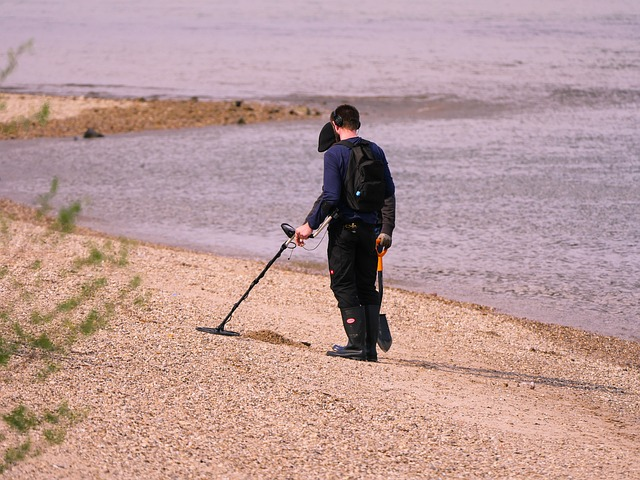headphones: (332, 105, 362, 132)
